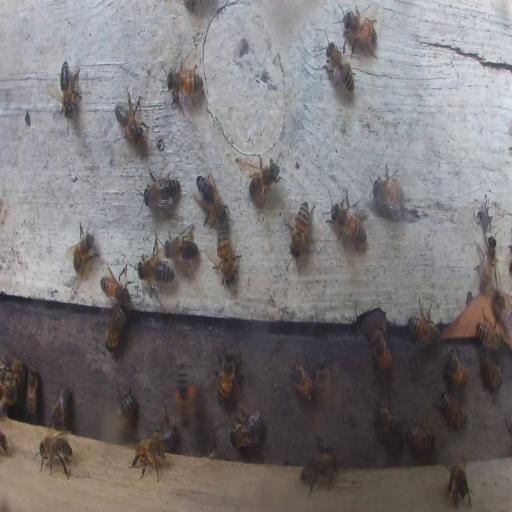nonpollenbee: (326, 192, 368, 243), (246, 153, 282, 209), (194, 170, 226, 230), (372, 160, 405, 218), (324, 39, 357, 96), (339, 5, 377, 54), (130, 432, 168, 480), (141, 168, 182, 212), (300, 448, 336, 498), (69, 218, 98, 278), (36, 433, 74, 477), (114, 92, 146, 144), (407, 300, 440, 348), (57, 60, 82, 120), (163, 227, 198, 268), (138, 246, 174, 285), (215, 227, 240, 283), (229, 410, 263, 450), (372, 399, 404, 441), (474, 239, 498, 294), (289, 200, 312, 257), (445, 460, 471, 508), (164, 68, 204, 98), (288, 358, 315, 402), (439, 390, 467, 430), (100, 272, 129, 309), (50, 382, 72, 430), (105, 302, 125, 352), (444, 349, 468, 390), (490, 289, 512, 333), (403, 424, 435, 453), (371, 330, 392, 374), (218, 352, 235, 406), (476, 319, 504, 351), (117, 385, 137, 425), (314, 354, 330, 401), (26, 366, 40, 418), (1, 370, 19, 410), (2, 354, 24, 381), (486, 363, 502, 392), (159, 428, 177, 451), (209, 446, 224, 457)
pollenbee: (174, 362, 195, 434)
